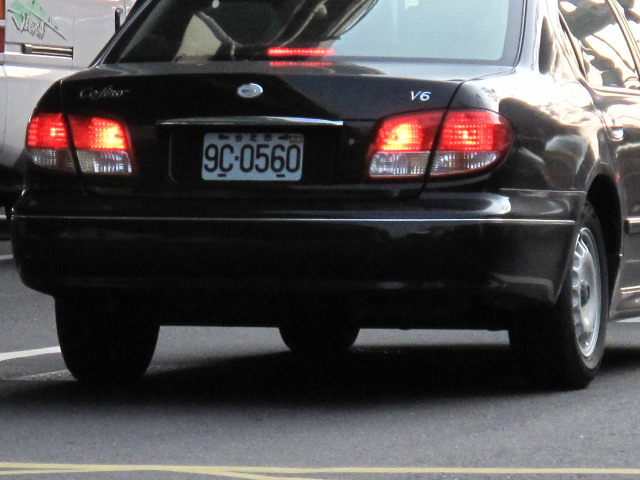plate: (199, 129, 308, 185)
